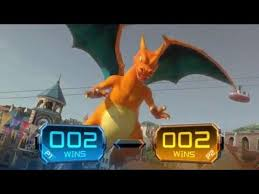charizard: (55, 22, 238, 157)
